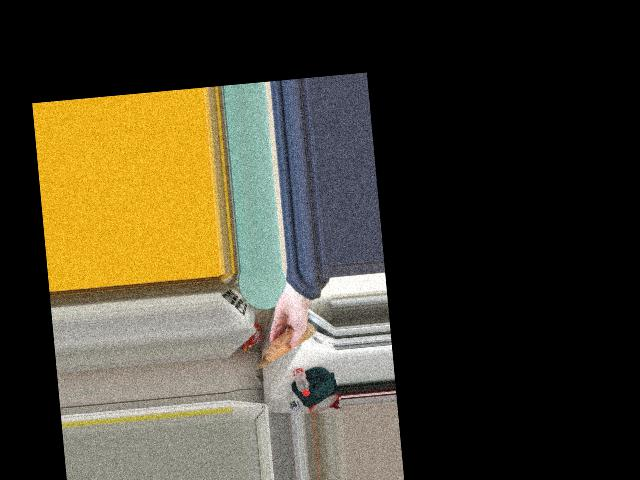sweet_potato: (267, 327, 304, 363)
